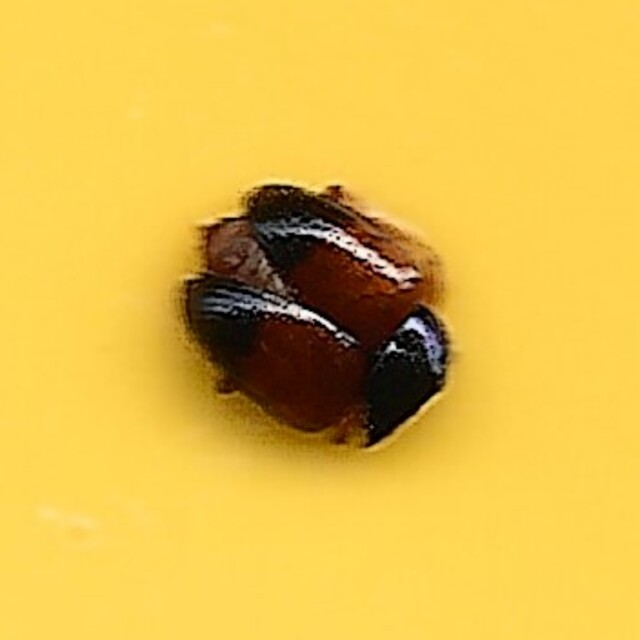Coleoptera: (182, 188, 458, 452)
